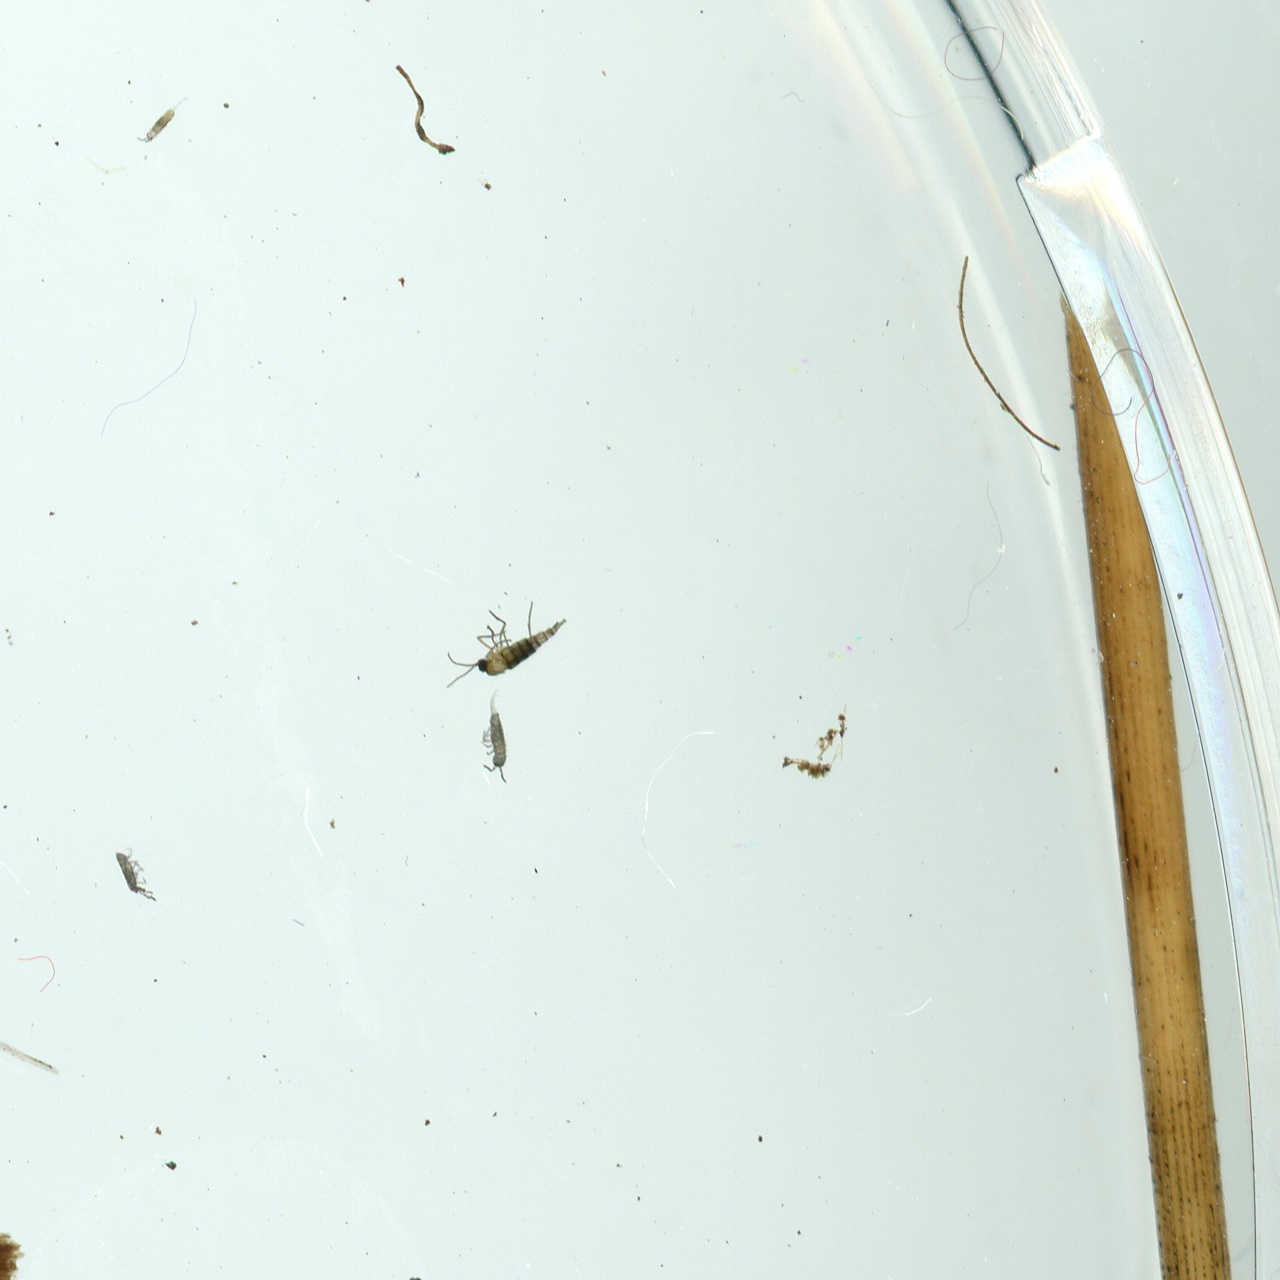arthropod: (418, 563, 586, 726), (474, 680, 518, 792), (131, 86, 195, 155), (109, 840, 163, 908)
